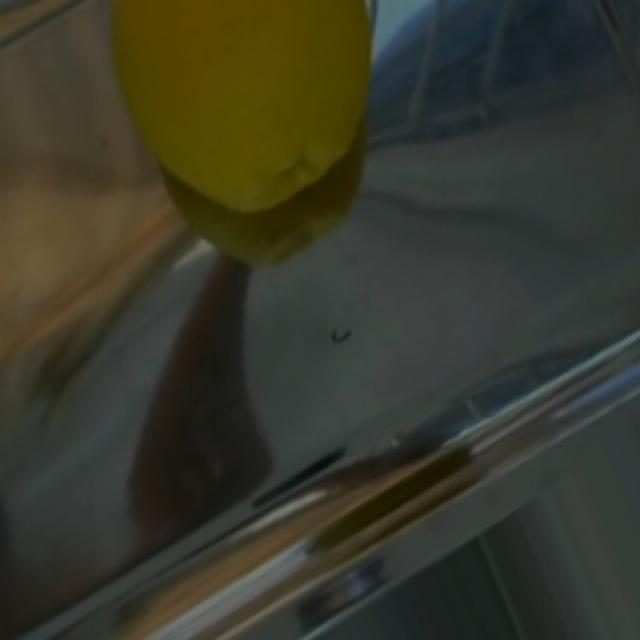Fruit: (129, 0, 399, 239), (0, 0, 125, 69)
